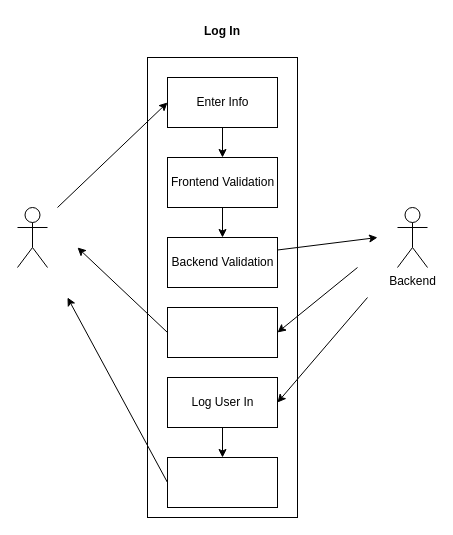
Some shapes in this 453 by 535 pixel diagram are drawn without their labels. The shapes that lost their labels are listed below. From the top down, each one's box as (x1, y1, x2, y2) in pixels, then its label:
(16, 206, 48, 268): User
(166, 306, 278, 358): If Failed Send Error to User
(166, 456, 278, 508): Send User to Dashboard
